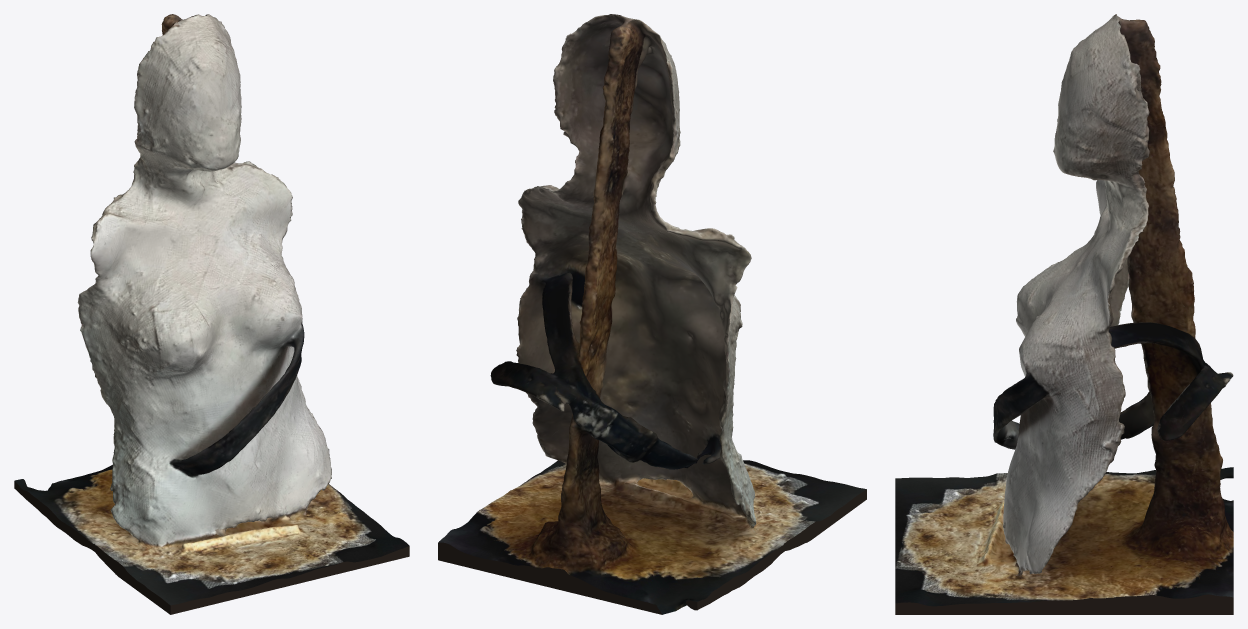
The model's file is FA-008-original.glb.
3 renders of one model, left to right at view 1: azimuth 30°, elevation 25°; view 2: azimuth 150°, elevation 25°; view 3: azimuth 270°, elevation 25°, orthographic. The views are drawn at different scales.
Parts seen in each view (by area): view 1: 3DModel; view 2: 3DModel; view 3: 3DModel.
Boxes of the visible parts, <box> form: 3DModel: <box>14,14,409,614</box>; 3DModel: <box>438,14,866,614</box>; 3DModel: <box>895,14,1233,614</box>.
Size of the model in its own units: 0.4616 by 0.9067 by 0.5221.
1 material, 1 textured.
